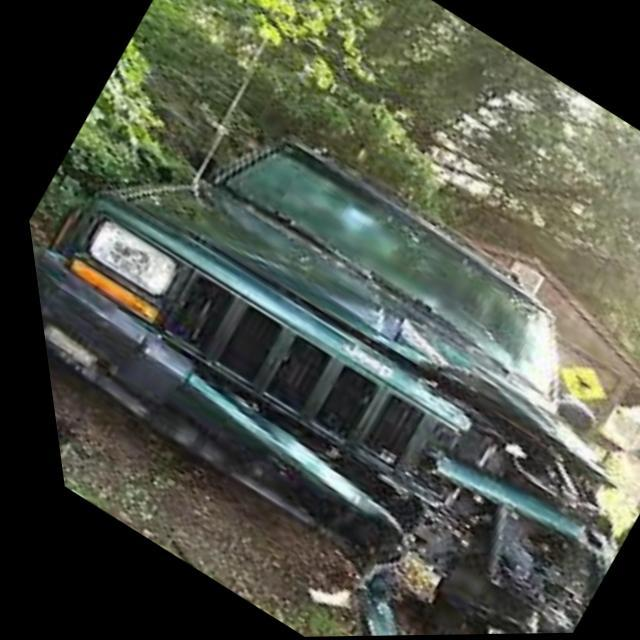crash: (167, 257, 606, 637)
